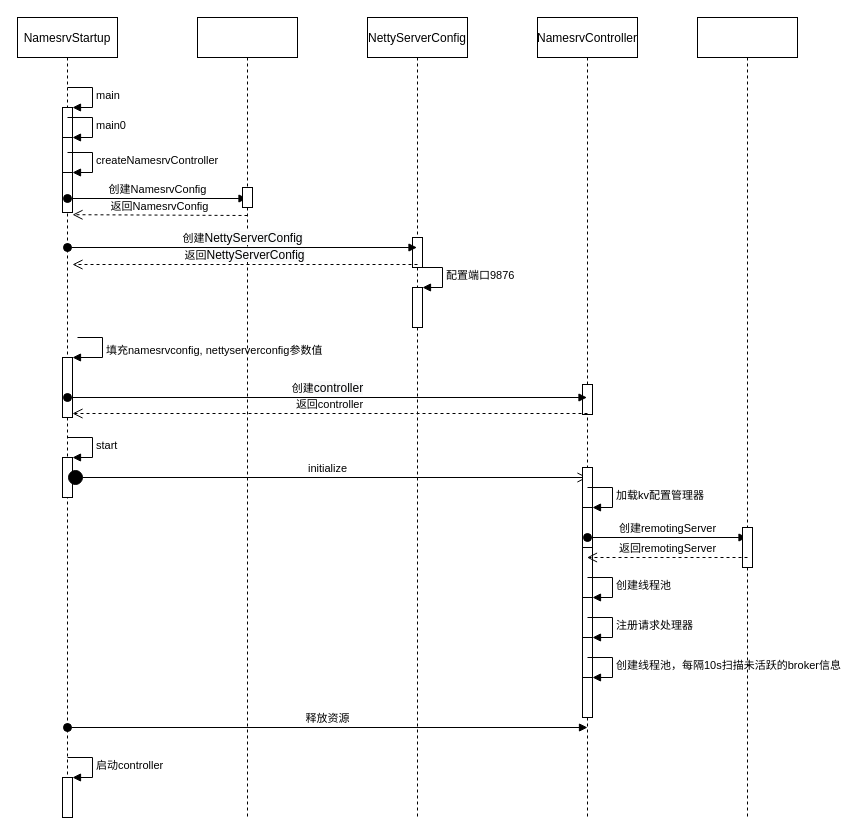
Image size: 859x835. Some labels were removed from this diagram. Here are the shapes that lost their labels. From the top down, the box of each, then its label:
(196, 16, 298, 818): NamesrvConfig
(696, 16, 798, 818): NettyRemoteServer
